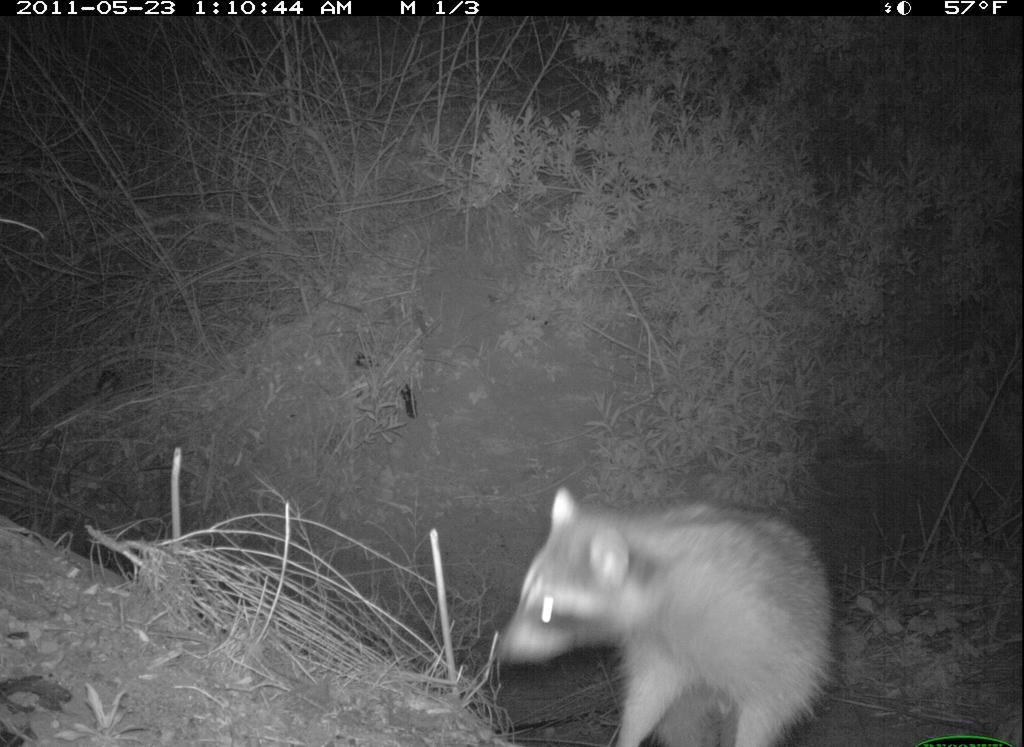raccoon: (492, 486, 841, 747)
